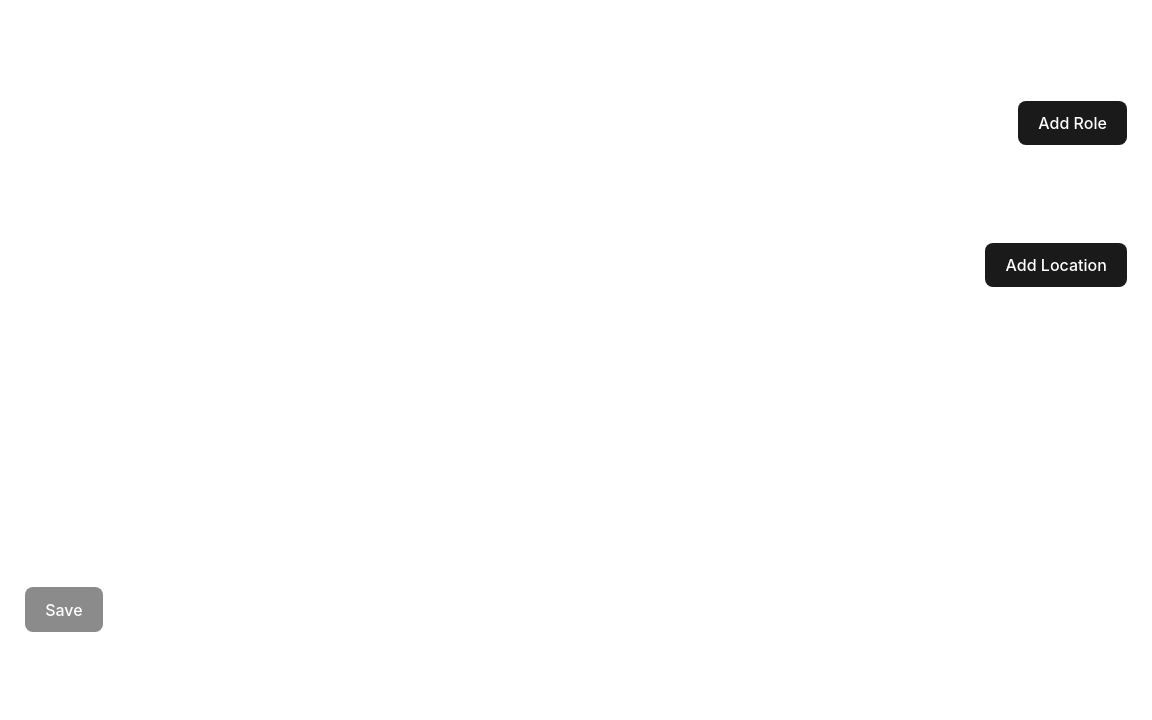
Test: CareerPreferencesSection › shows validation error for blank location
The width and height of the screenshot is (1152, 720).
Click the button "Add Location".
click(1056, 265)  # box [985,243,1127,287]
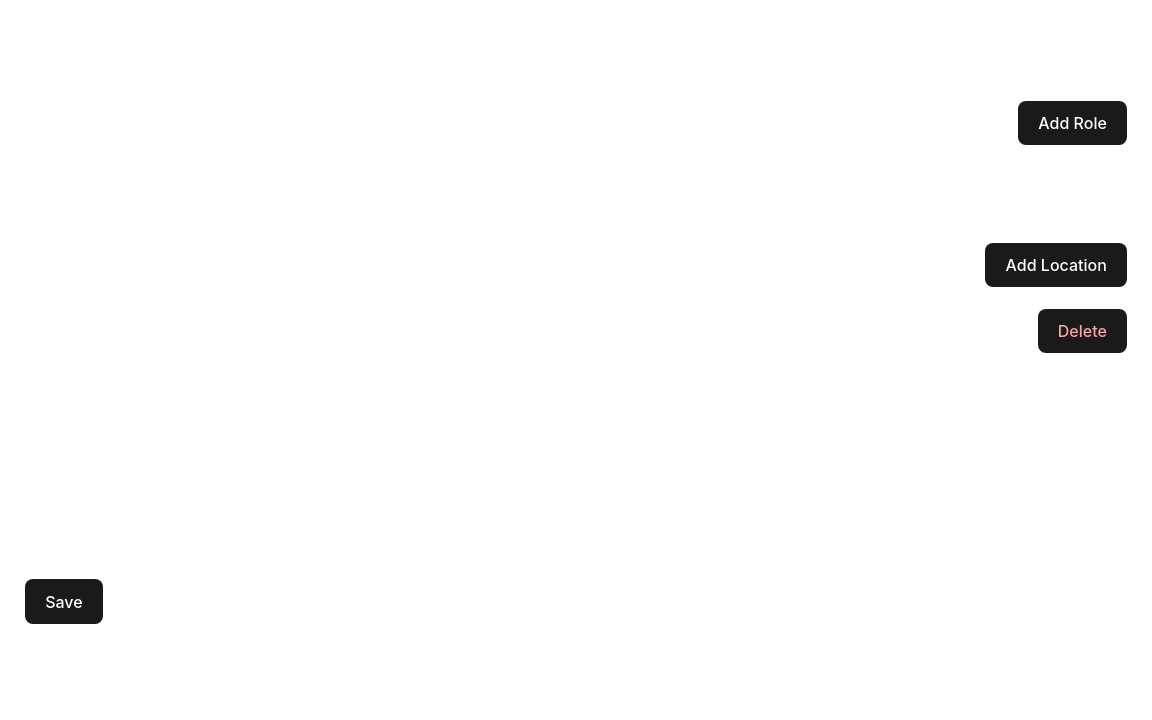
Click the button "Save".
click(64, 602)  # box [25,579,103,624]
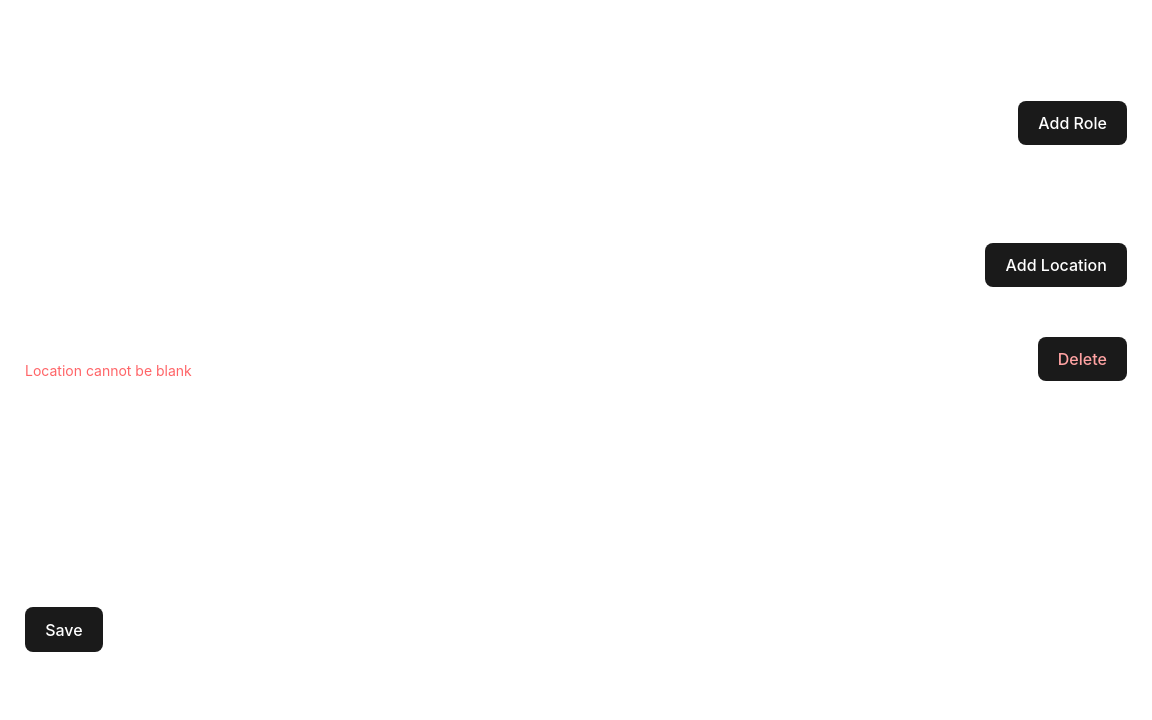
expect the text "Location cannot be blank" is shown: met, box [25,362,192,379]
